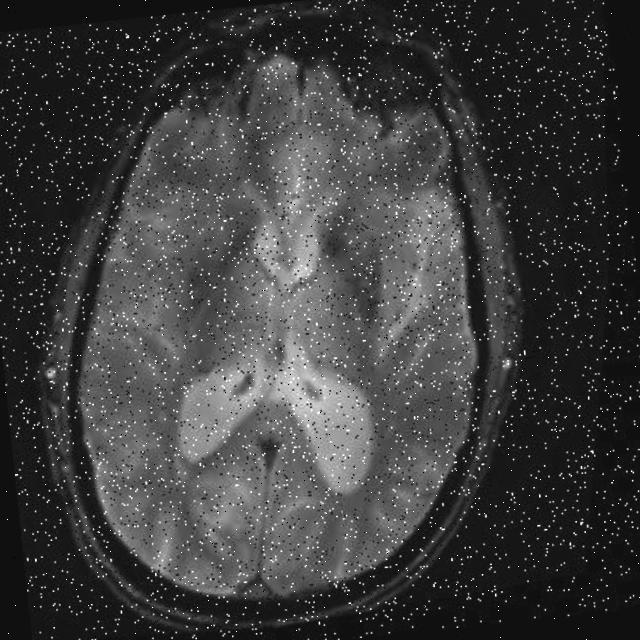LMCI: (298, 199, 392, 309), (179, 211, 262, 331)
